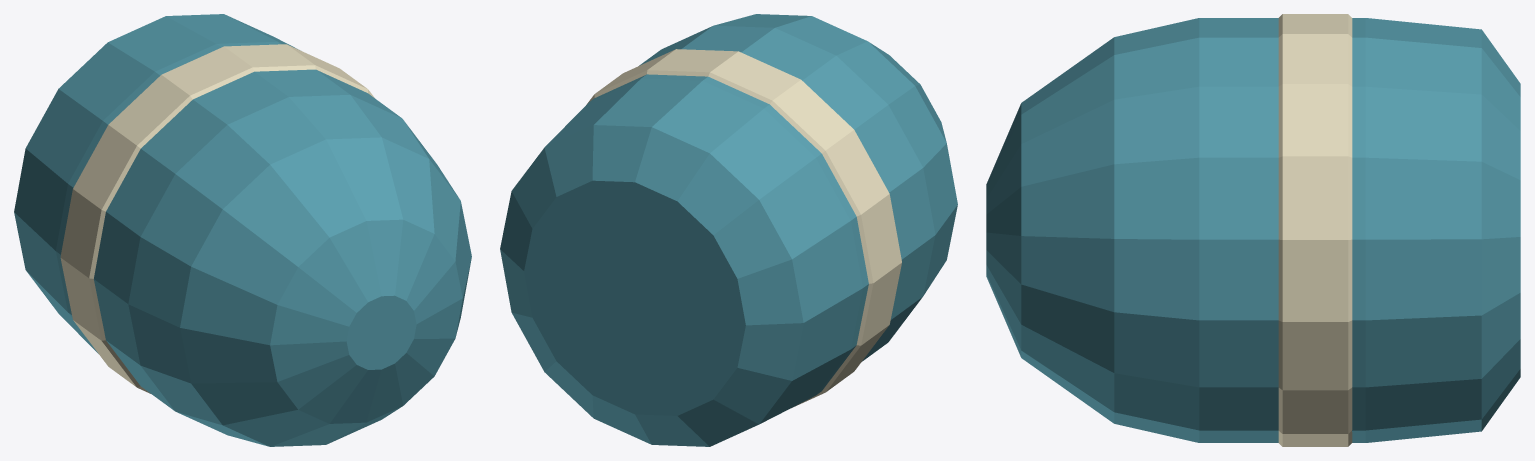
File: RUBBER_SHELL.lo.glb
The picture shows the model from 3 angles, left to right: view 1: azimuth 30°, elevation 25°; view 2: azimuth 150°, elevation 25°; view 3: azimuth 270°, elevation 25°; orthographic projection. The views are drawn at different scales.
Parts seen in each view (by area): view 1: Body_Mesh; view 2: Body_Mesh; view 3: Body_Mesh.
Part boxes in pixels (x1,y1,x2,y2): Body_Mesh: (14,14,471,446); Body_Mesh: (500,14,957,446); Body_Mesh: (986,14,1520,446).
Size of the model in its own units: 0.112 by 0.112 by 0.138.
1 material, 1 textured.
